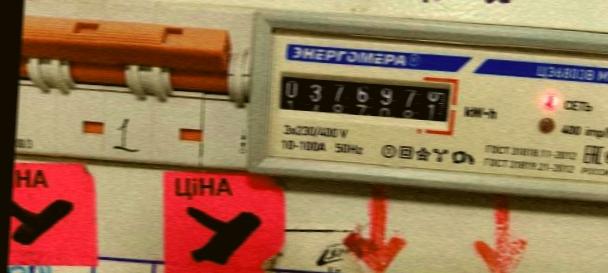0: (285, 75, 300, 96)
1: (426, 99, 438, 117)
3: (309, 78, 323, 99)
6: (356, 78, 370, 100)
7: (332, 78, 346, 100), (404, 83, 417, 106)
9: (380, 82, 393, 103)
screen: (271, 59, 464, 134)
